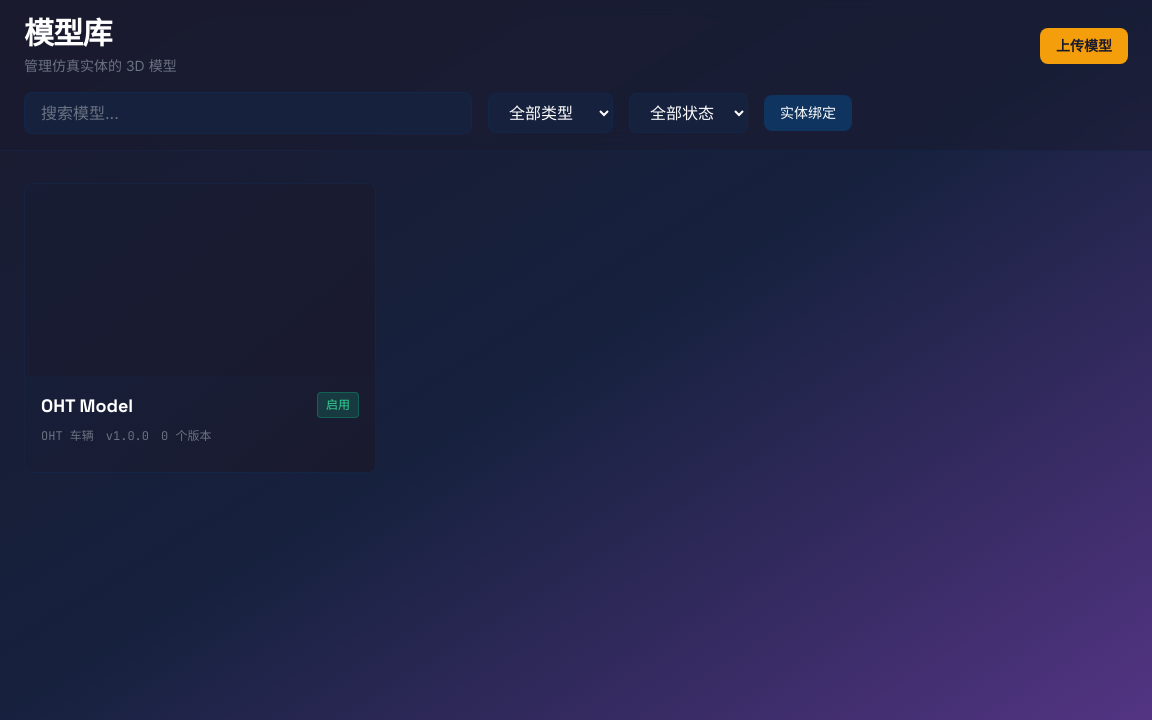
Test: ModelLibraryPage › shouldSwitchKeyTextsToZhWhenLocaleChanges
Check: the heading "模型库" is shown, box [24,14,112,53]
Check: the button "上传模型" is shown, box [1040,28,1128,64]
What coordinates should you click on to do the following:
click the button with test id "toggle-binding-panel"
I would click on:
 (808, 113)
Its box is [764,95,852,131].
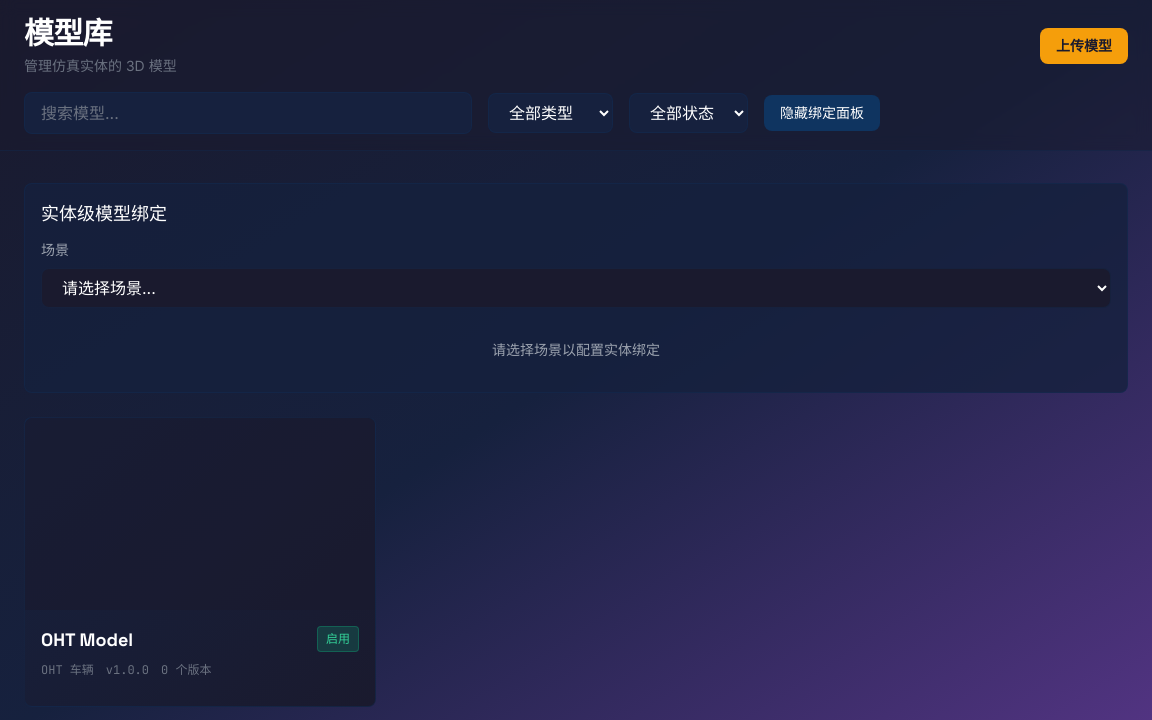
Check: the heading "实体级模型绑定" is shown, box [41,202,167,225]
Check: the text "场景" is shown, box [41,241,69,258]
